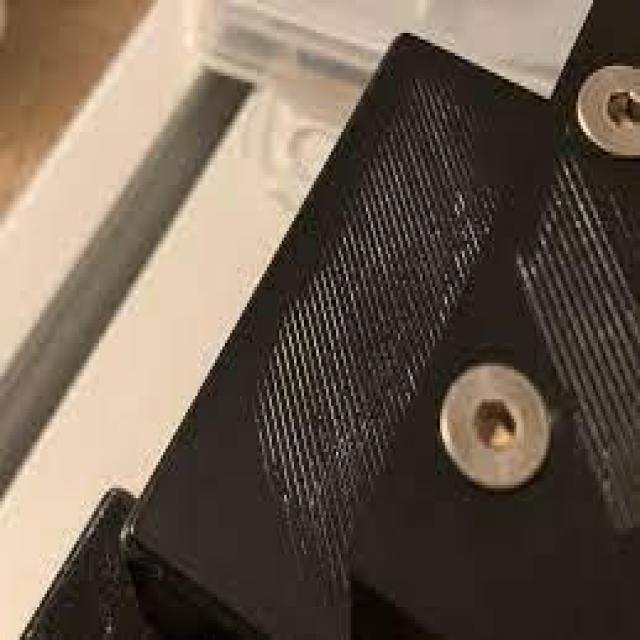spaghetti: (236, 62, 518, 622), (507, 129, 640, 553)
